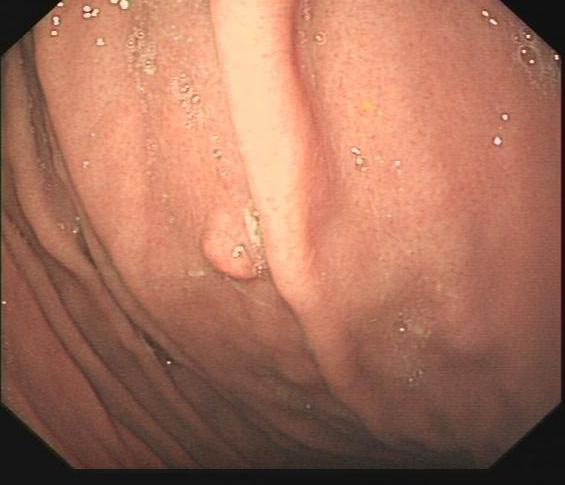Polyp: (194, 226, 262, 286)
